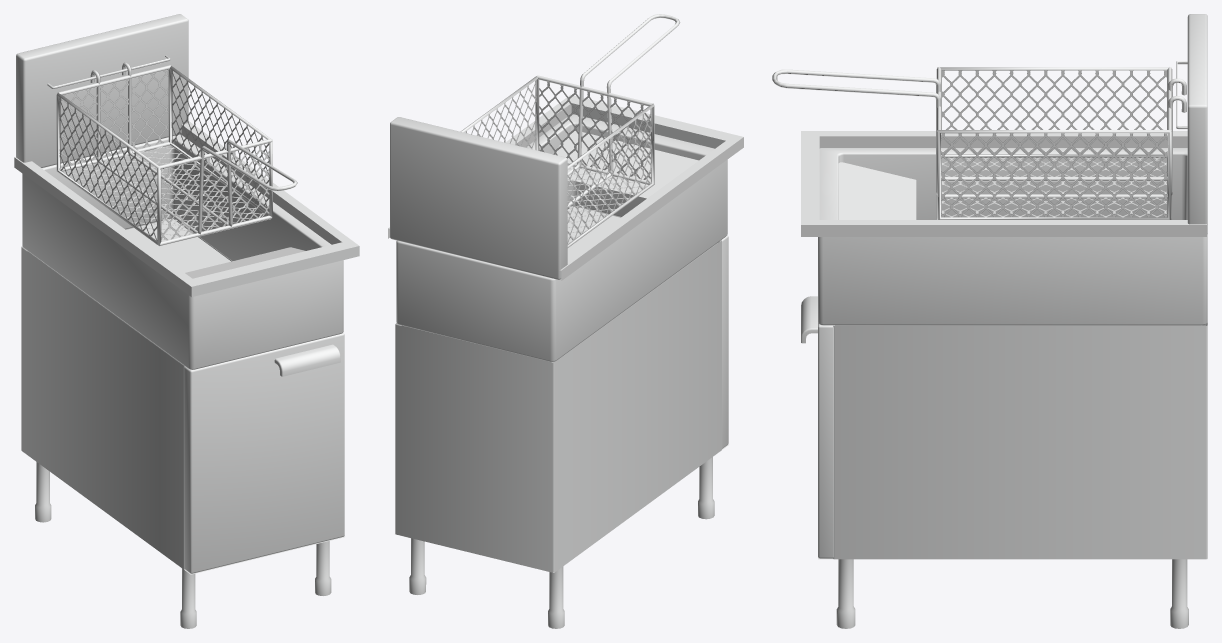
The model's file is Deep Frayer.fbx.
3 renders of one model, left to right at view 1: azimuth 30°, elevation 25°; view 2: azimuth 150°, elevation 25°; view 3: azimuth 270°, elevation 25°, orthographic. The views are drawn at different scales.
Parts seen in each view (by area): view 1: Deep Frayer, Saringan; view 2: Deep Frayer, Saringan; view 3: Deep Frayer, Saringan.
Boxes of the visible parts, left/top/right/bottom form: Deep Frayer: left=14, top=14, right=359, bottom=628; Saringan: left=56, top=62, right=297, bottom=246; Deep Frayer: left=388, top=94, right=743, bottom=628; Saringan: left=460, top=14, right=680, bottom=247; Deep Frayer: left=801, top=14, right=1207, bottom=628; Saringan: left=772, top=67, right=1186, bottom=219.
Size of the model in its own units: 43.5 by 114 by 85.17.
2 materials, 2 textured.
